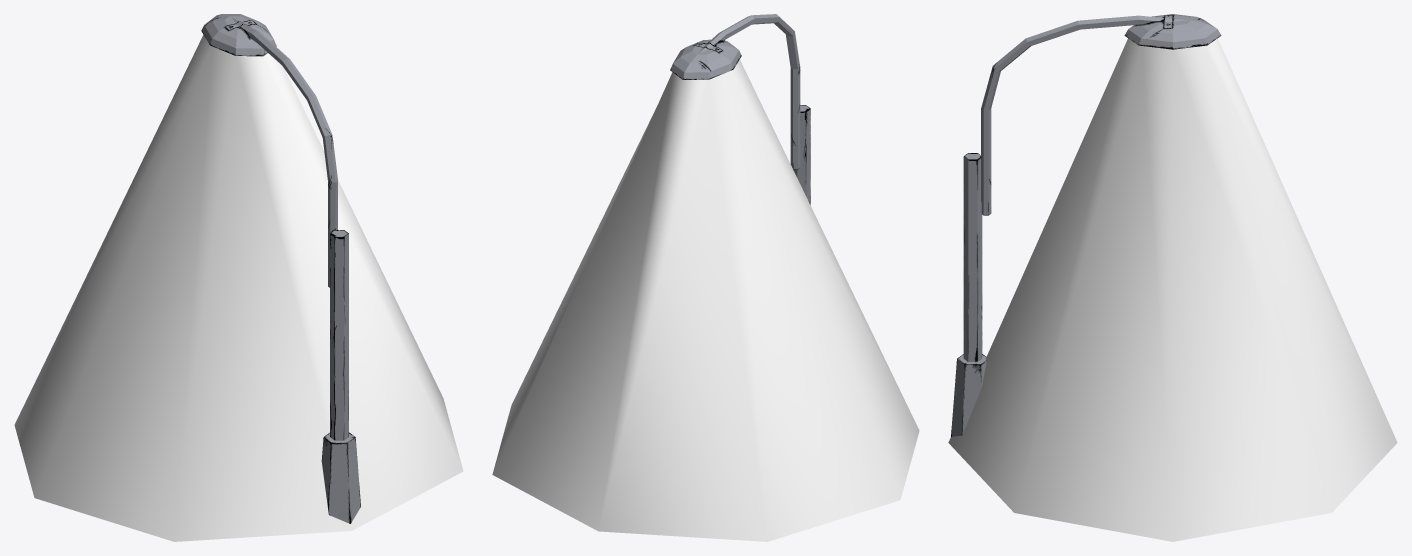
The model's file is Lvl1.Lamp.fbx.
3 views of the same model, side by side, from view 1: azimuth 30°, elevation 25°; view 2: azimuth 150°, elevation 25°; view 3: azimuth 270°, elevation 25° (orthographic). The views are drawn at different scales.
Parts seen in each view (by area): view 1: Lamp_Base_Light, Lamp_Base; view 2: Lamp_Base_Light, Lamp_Base; view 3: Lamp_Base_Light, Lamp_Base.
Boxes of the visible parts, x1,y1,x2,y2 form: Lamp_Base_Light: (14, 35, 463, 541); Lamp_Base: (201, 14, 360, 523); Lamp_Base_Light: (492, 59, 919, 541); Lamp_Base: (670, 14, 810, 204); Lamp_Base_Light: (948, 38, 1397, 541); Lamp_Base: (951, 14, 1221, 436).
Bounding box in the file's own units: 518 × 520 × 496.
Materials: 2 (2 with a texture image).
